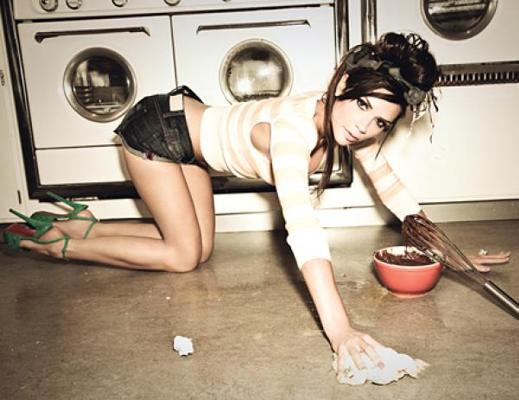person: (3, 33, 510, 384)
